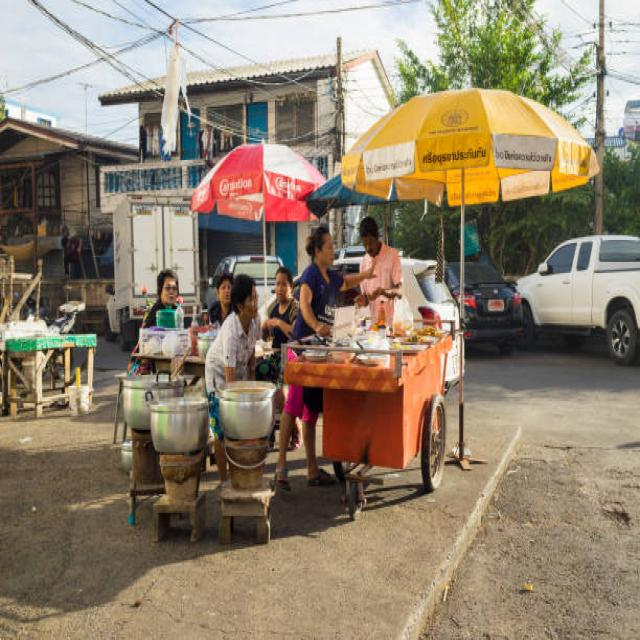Emperan: (98, 78, 584, 580)
